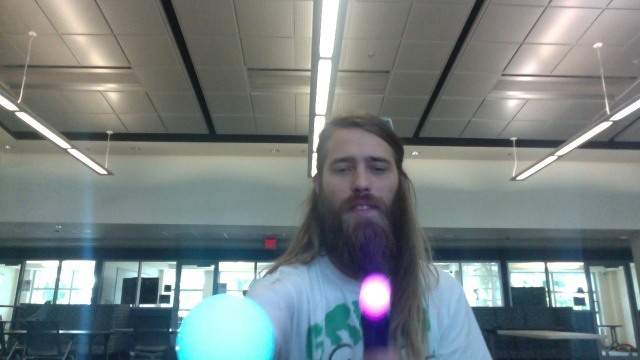wand: (176, 295, 273, 360), (358, 273, 391, 317)
